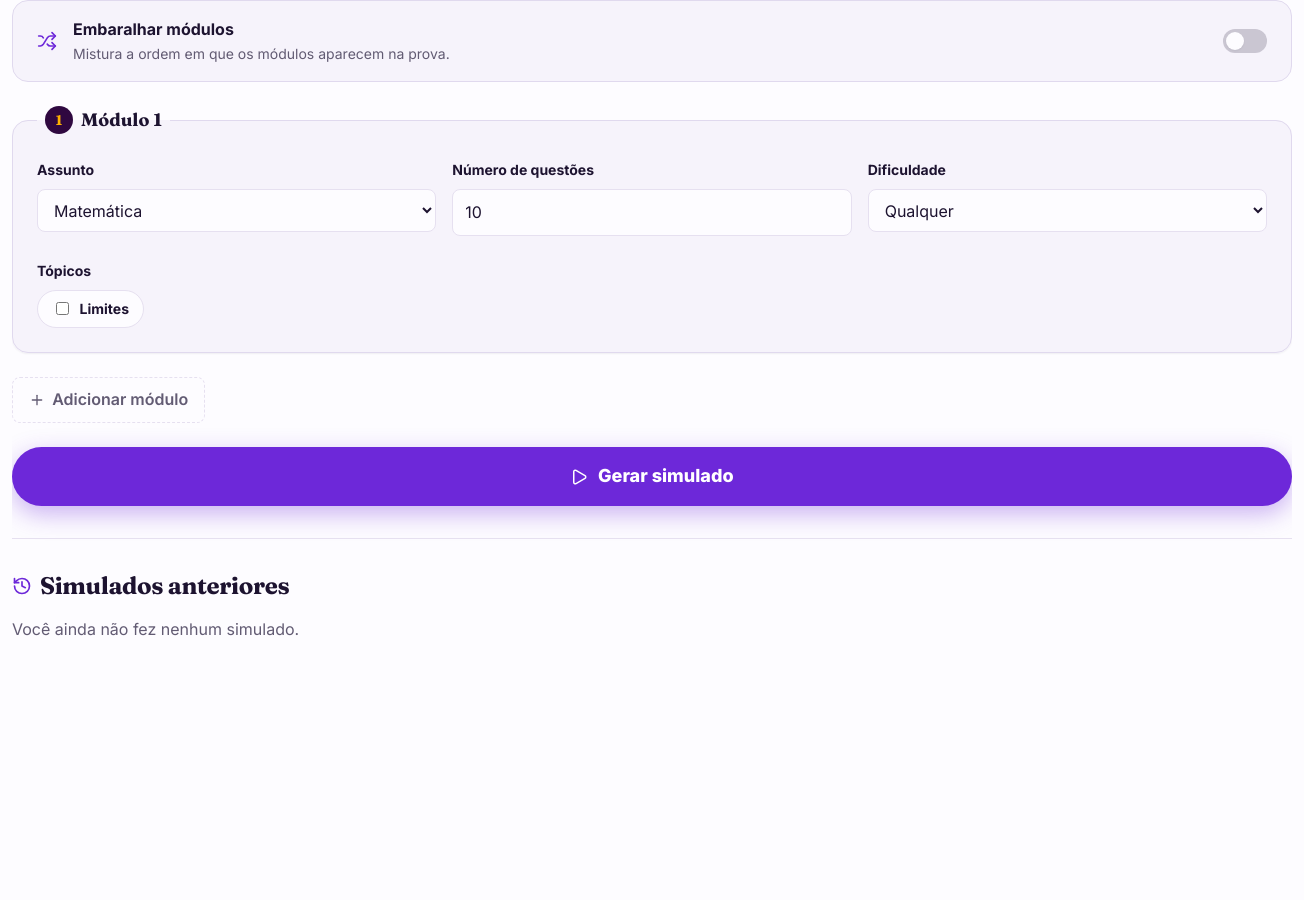
Test case: SimuladoPageClient › shows an error message and stays usable when the question bank fails to load
What coordinates should you click on to do the following:
click the button "Gerar simulado"
I would click on:
 (652, 477)
Its box is x1=12 y1=447 x2=1292 y2=506.
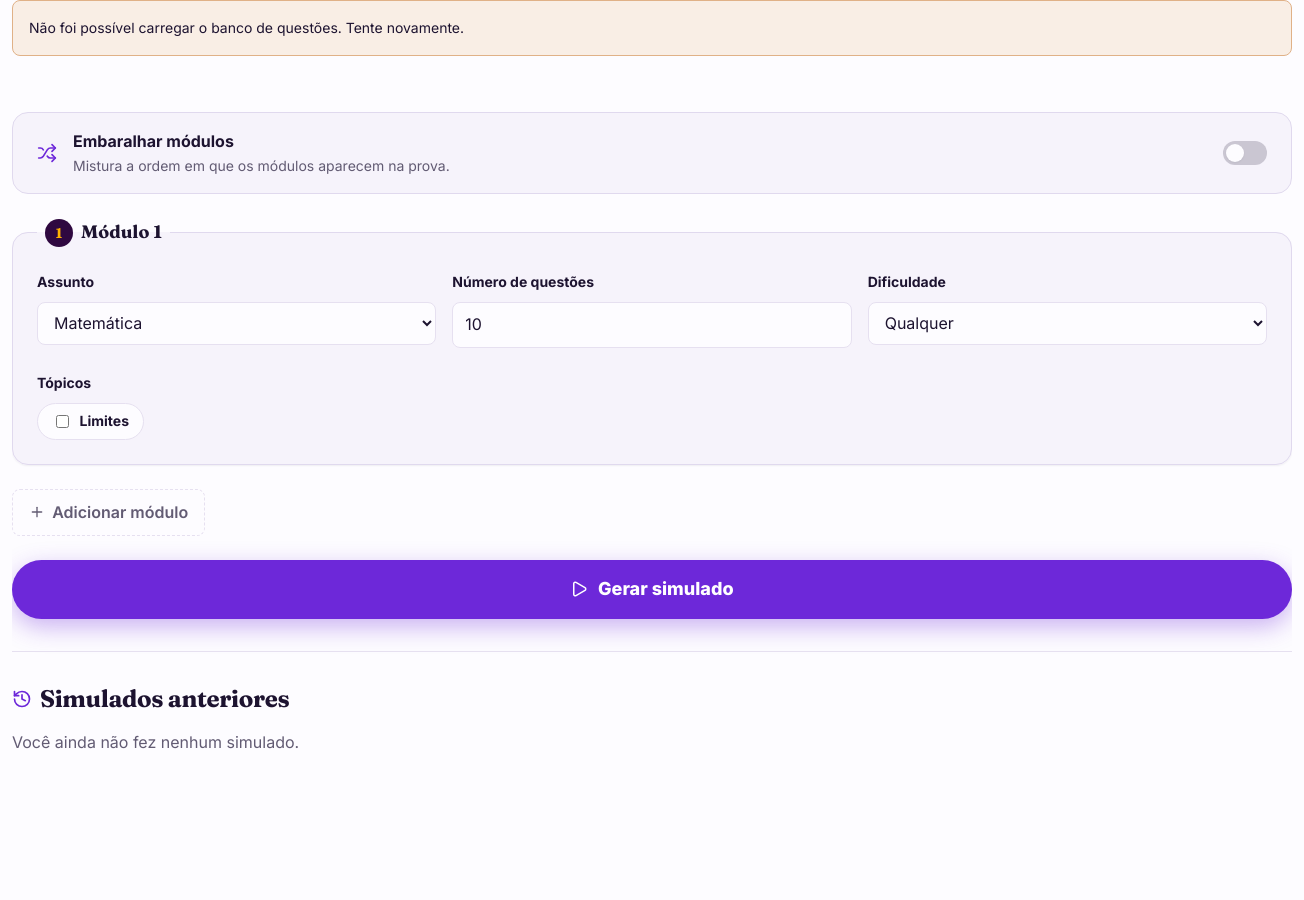
Expected: the button "Gerar simulado" is shown, x1=12 y1=560 x2=1292 y2=619
Now the text "Não foi possível carregar o banco de questões. Tente novamente." is shown, box x1=12 y1=0 x2=1292 y2=56
